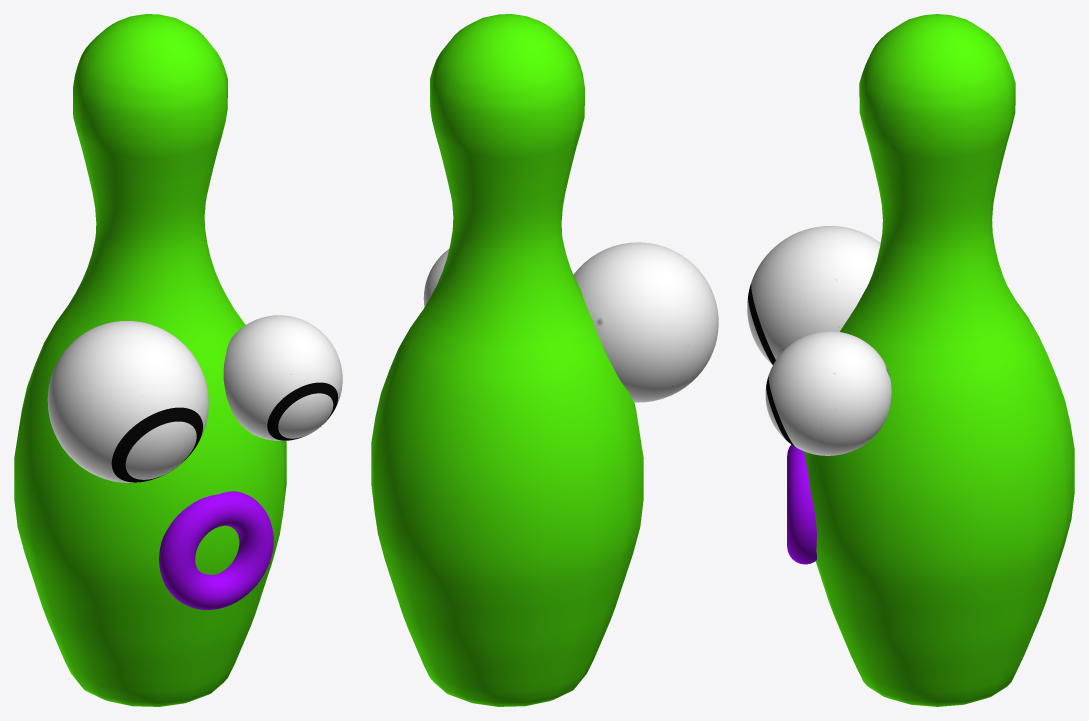
File: PinoGloink.glb
The picture shows the model from 3 angles, left to right: view 1: azimuth 30°, elevation 25°; view 2: azimuth 150°, elevation 25°; view 3: azimuth 270°, elevation 25°; orthographic projection.
Parts seen in each view (by area): view 1: Object_2, Object_3, Object_4, Object_5; view 2: Object_2, Object_3, Object_4; view 3: Object_2, Object_4, Object_3, Object_5.
Part boxes in pixels (bbox=[...]): Object_2: bbox=[14, 14, 286, 706]; Object_3: bbox=[47, 321, 208, 482]; Object_4: bbox=[223, 315, 342, 440]; Object_5: bbox=[159, 491, 273, 609]; Object_2: bbox=[371, 14, 643, 706]; Object_3: bbox=[573, 242, 718, 402]; Object_4: bbox=[423, 249, 448, 307]; Object_2: bbox=[804, 14, 1074, 706]; Object_4: bbox=[765, 331, 891, 455]; Object_3: bbox=[747, 226, 880, 365]; Object_5: bbox=[787, 444, 816, 564].
Bounding box in the file's own units: 0.1792 × 0.4125 × 0.1849.
4 materials, 4 textured.
